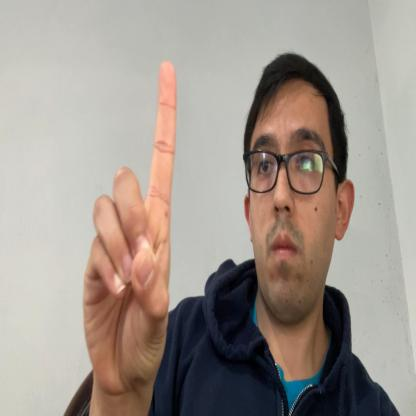D: (82, 61, 177, 391)
